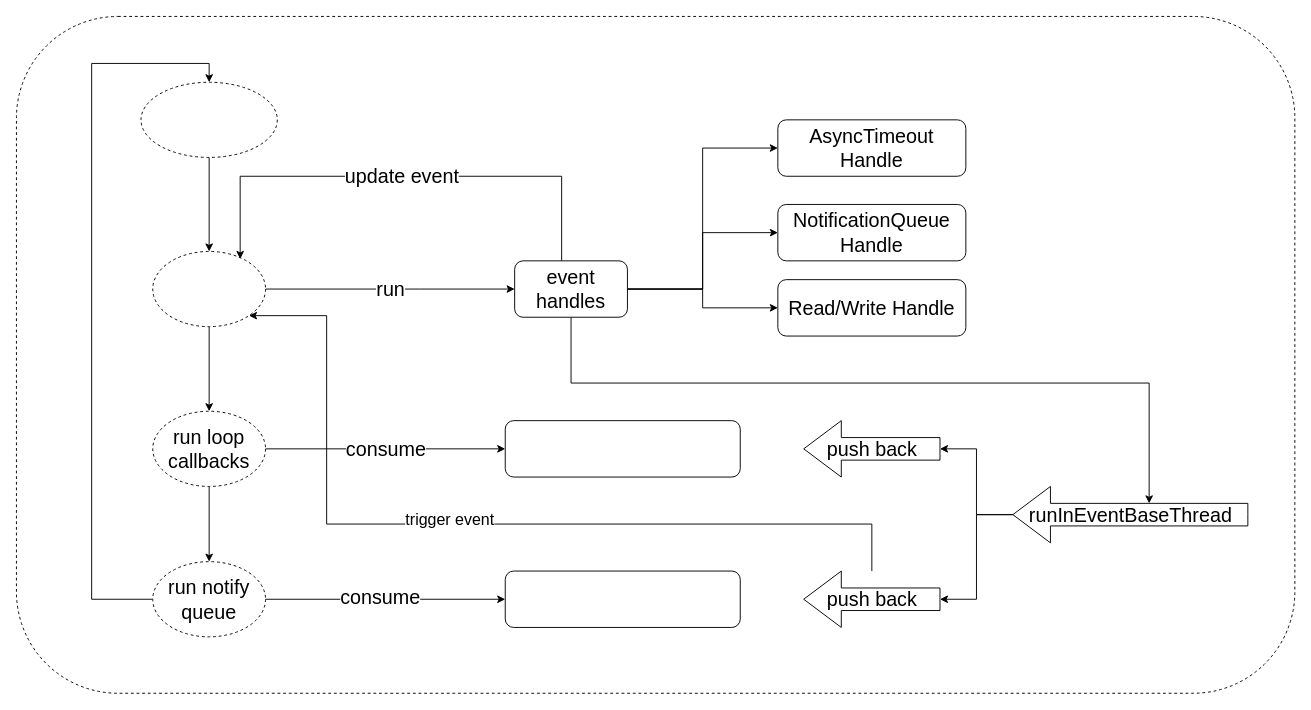
Image size: 1311x710. Some labels were removed from this diagram. The shapes that lost their labels are listed below. From the top down, each one's centre as x and y in pixels, then its label:
At (208,119): "run before loop callbacks".
At (209,289): "epoll once".
At (622,448): "callbacks queue".
At (622,598): "NotificationQueue".
